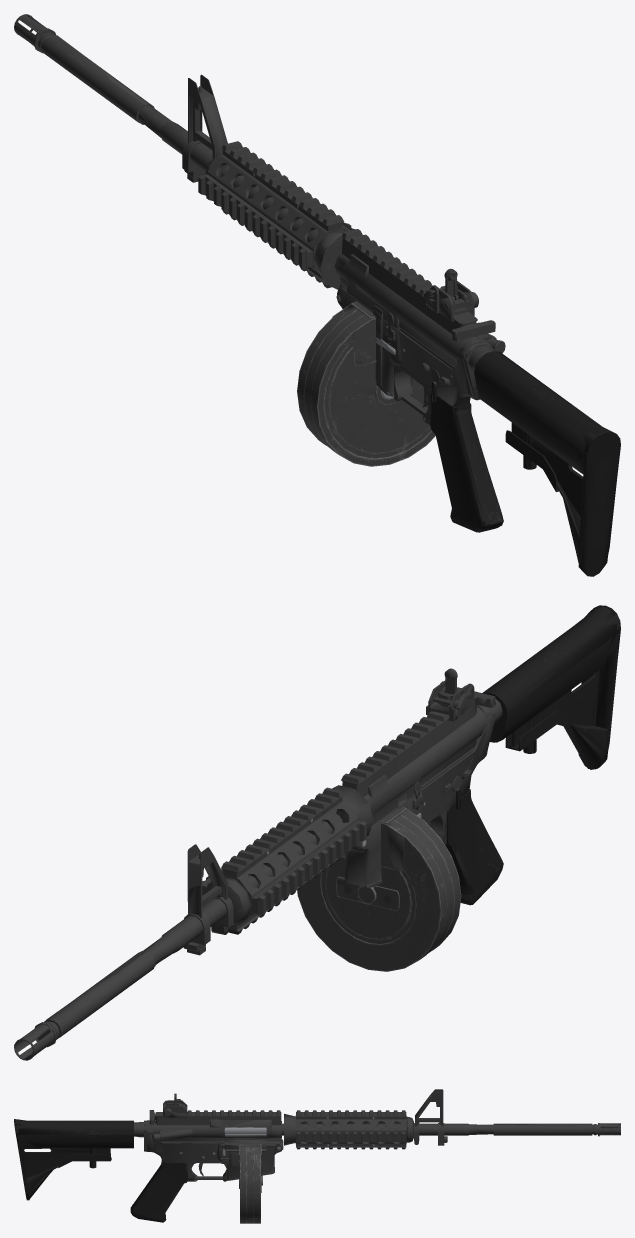
File: lmg_l56.gltf
3 views of the same model, one above another, from view 1: azimuth 30°, elevation 25°; view 2: azimuth 150°, elevation 25°; view 3: azimuth 270°, elevation 25° (orthographic). The views are drawn at different scales.
Visible parts, largest first — view 1: Body, LOD, Magazine, RearSight; view 2: Body, LOD, Magazine, RearSight; view 3: Body, LOD, Magazine, RearSight.
Part boxes in pixels (<box>): Body: <box>14,14,620,575</box>; LOD: <box>14,14,620,576</box>; Magazine: <box>297,301,435,466</box>; RearSight: <box>423,268,478,321</box>; Body: <box>14,606,620,1060</box>; LOD: <box>14,605,620,1059</box>; Magazine: <box>297,807,461,971</box>; RearSight: <box>426,668,473,721</box>; Body: <box>14,1089,620,1222</box>; LOD: <box>14,1093,620,1223</box>; Magazine: <box>239,1143,262,1223</box>; RearSight: <box>163,1093,187,1118</box>.
Size of the model in its own units: 0.1387 by 0.2256 by 0.9588.
Materials: 2 (2 with a texture image).
